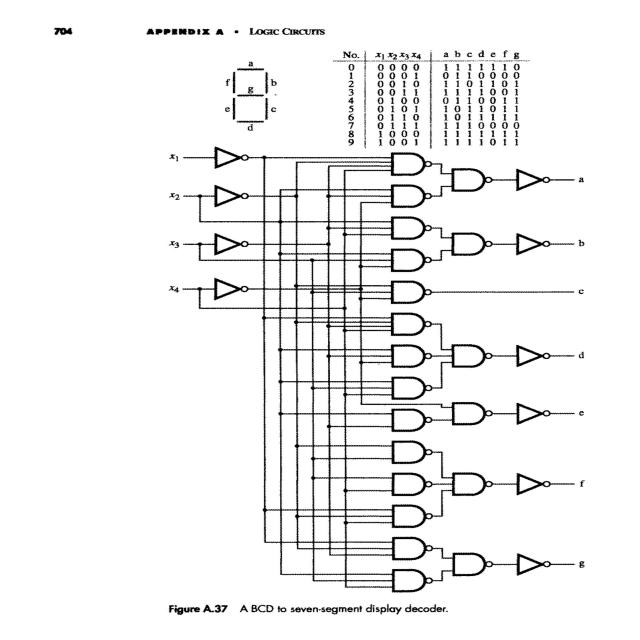diagram: (82, 50, 640, 632)
